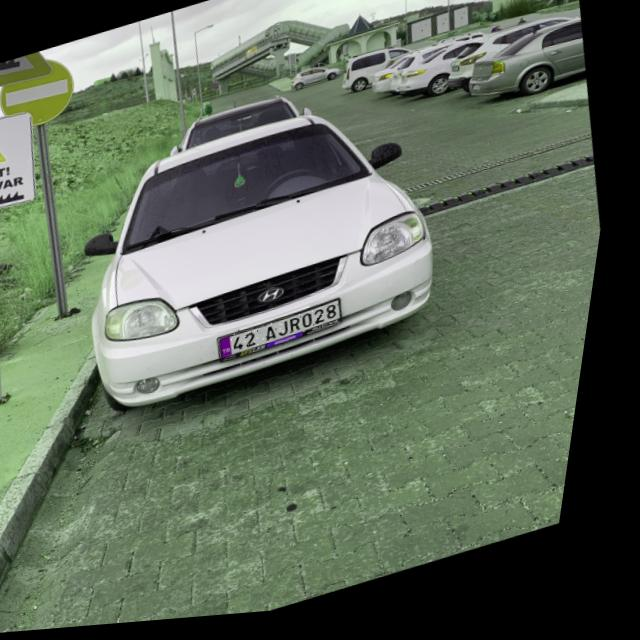license_plate: (225, 305, 354, 362)
